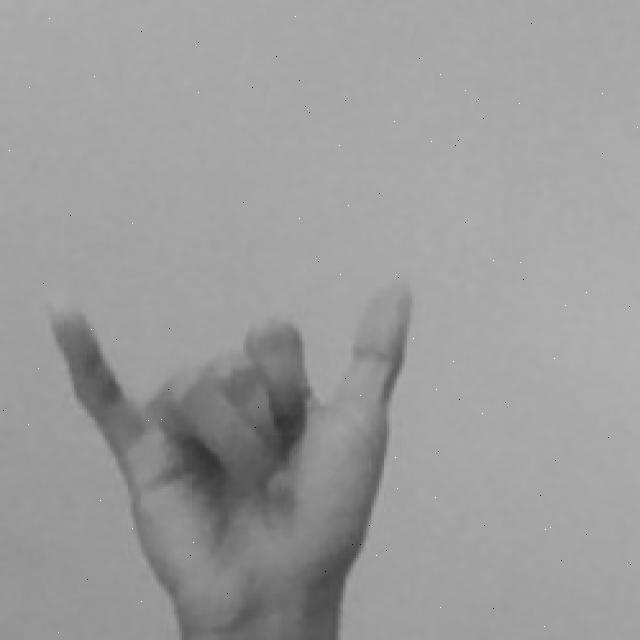Y: (40, 273, 423, 640)
